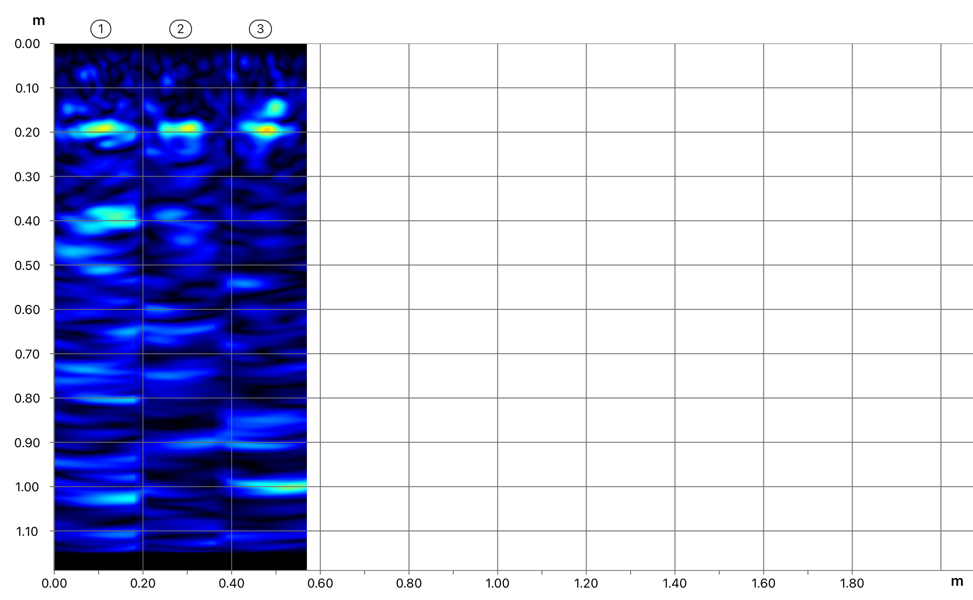crop: (0, 0, 308, 288)
